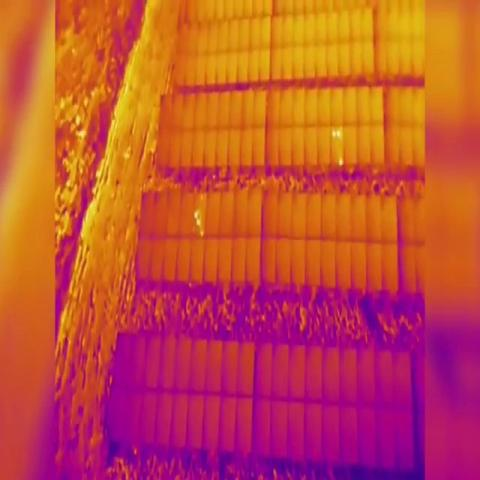fault: (331, 130, 338, 140), (335, 130, 342, 139), (338, 158, 344, 168), (194, 211, 199, 221), (200, 229, 205, 237), (197, 218, 201, 227)
